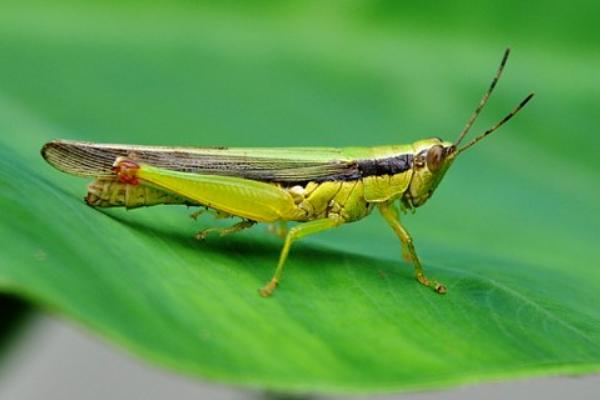huangchong: (34, 77, 464, 276)
